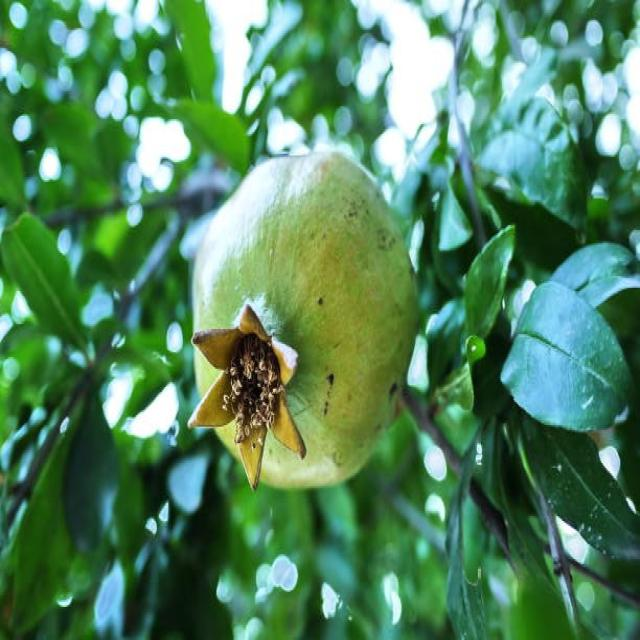Unripe: (190, 149, 421, 495)
